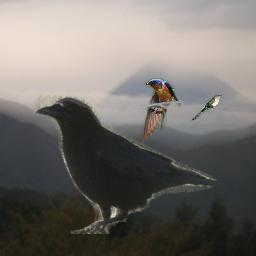Crow: (30, 93, 217, 234)
Cuckoo: (191, 94, 223, 121)
Swallow: (140, 78, 181, 143)
